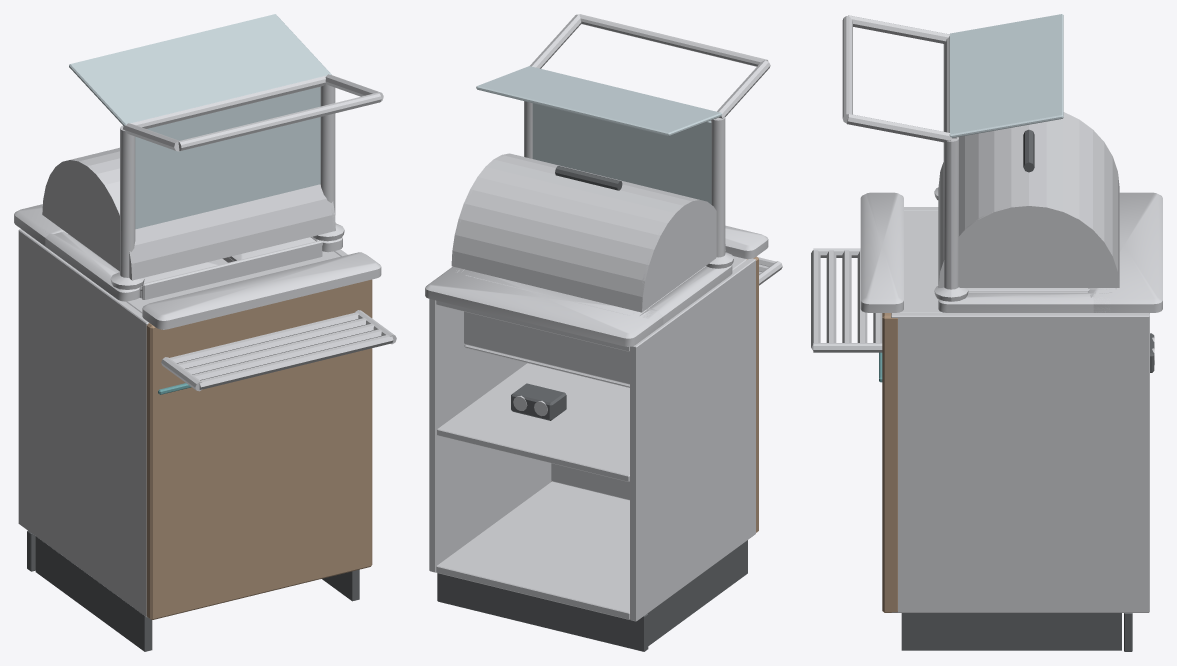
Rendered from hotel-and-resort-operations-buffet-counter-hot-b175cf68__25898.glb.
The picture shows the model from 3 angles, left to right: view 1: azimuth 30°, elevation 25°; view 2: azimuth 150°, elevation 25°; view 3: azimuth 270°, elevation 25°; orthographic projection. The views are drawn at different scales.
Visible parts, largest first — view 1: buffet-counter-hot, lid-buffet/metal; view 2: buffet-counter-hot, lid-buffet/metal, lid-buffet/dark; view 3: buffet-counter-hot, lid-buffet/metal.
Part boxes in pixels (x1,y1,x2,y2): buffet-counter-hot: [14, 14, 396, 651]; lid-buffet/metal: [42, 147, 335, 280]; buffet-counter-hot: [425, 14, 782, 651]; lid-buffet/metal: [451, 153, 725, 312]; lid-buffet/dark: [555, 166, 622, 190]; buffet-counter-hot: [811, 14, 1162, 651]; lid-buffet/metal: [938, 112, 1119, 287].
Size of the model in its own units: 0.62 by 1.36 by 0.815.
